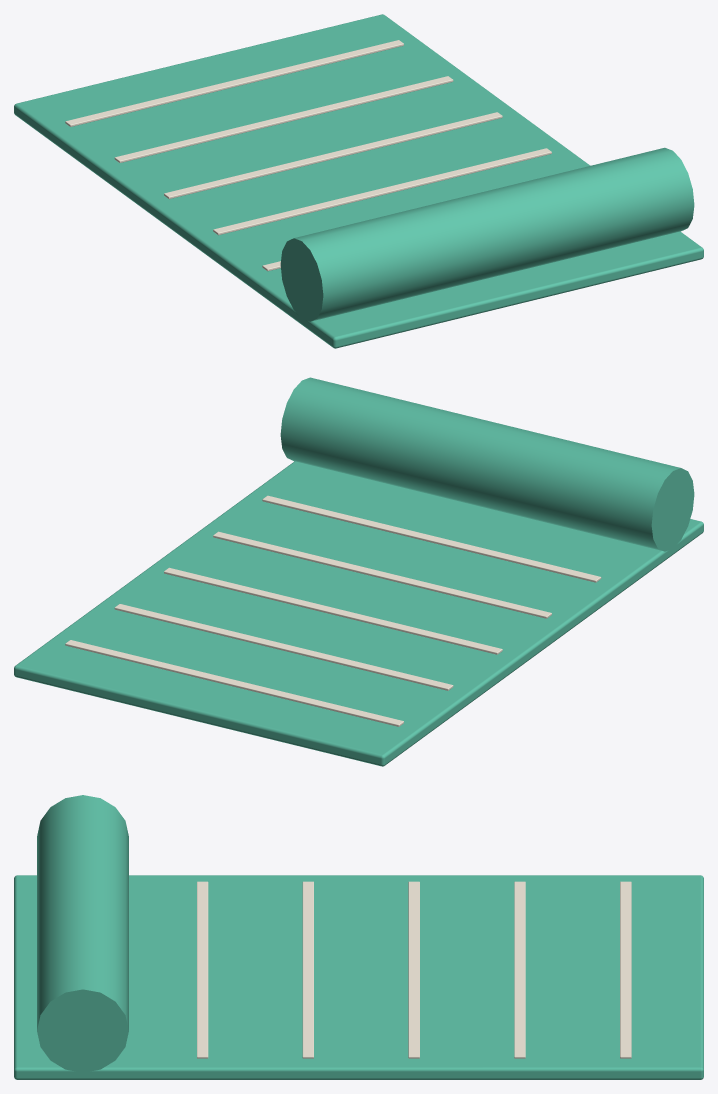
File: yoga-mat-corner.glb
3 views of the same model, one above another, from view 1: azimuth 30°, elevation 25°; view 2: azimuth 150°, elevation 25°; view 3: azimuth 270°, elevation 25° (orthographic). The views are drawn at different scales.
Parts seen in each view (by area): view 1: yoga_mat_corner; view 2: yoga_mat_corner; view 3: yoga_mat_corner.
Part boxes in pixels (box(x1,y1,x2,y2)): yoga_mat_corner: box(14, 14, 703, 348); yoga_mat_corner: box(14, 377, 703, 766); yoga_mat_corner: box(14, 795, 703, 1079).
Size of the model in its own units: 1 by 0.22 by 1.5.
